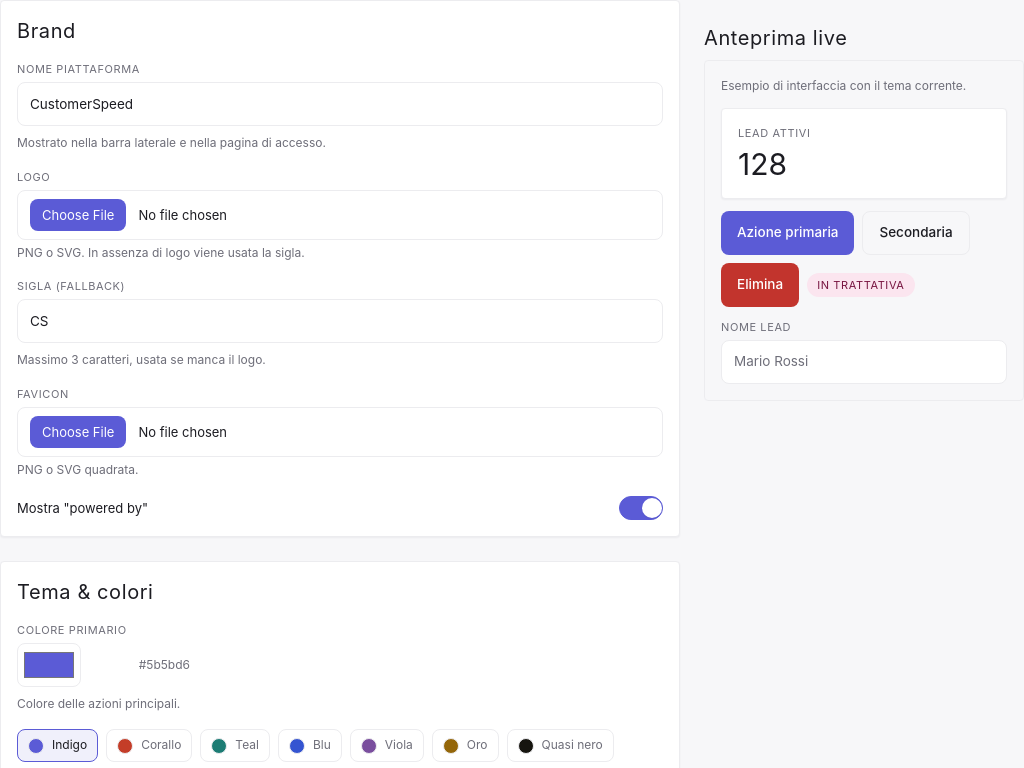
Scenario: AppearancePanel › blocks save and shows a contrast error when accent fails AA
This screenshot has width=1024, height=768.
// Set the primary color to a too-light value that fails white-on-accent.
Type "#f1c40f" into the colour field labelled "Colore primario" at (49, 665), box [17,643,81,687]
(page scrolled)
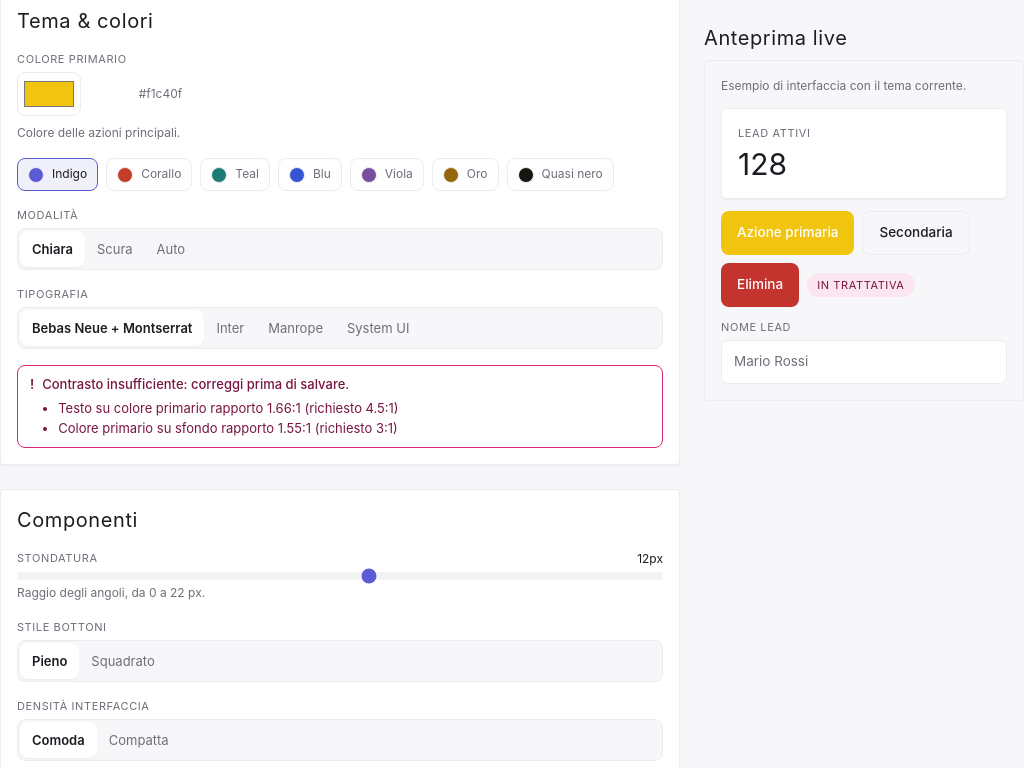
Expected: the text "Contrasto insufficiente: correggi prima di salvare." is shown, [42,376,349,392]
